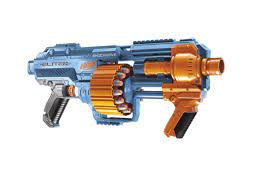gun: (21, 39, 230, 146)
